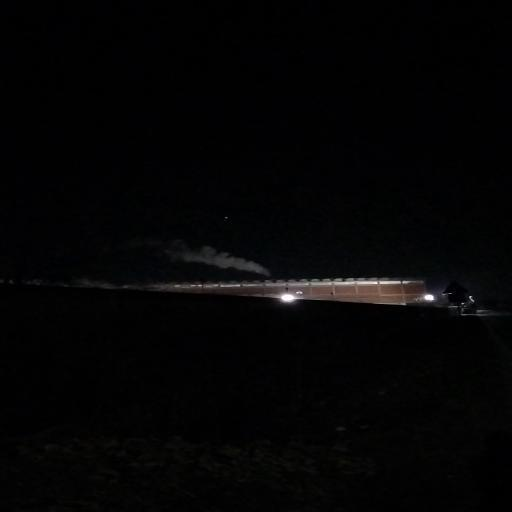leakage: (132, 224, 284, 280)
